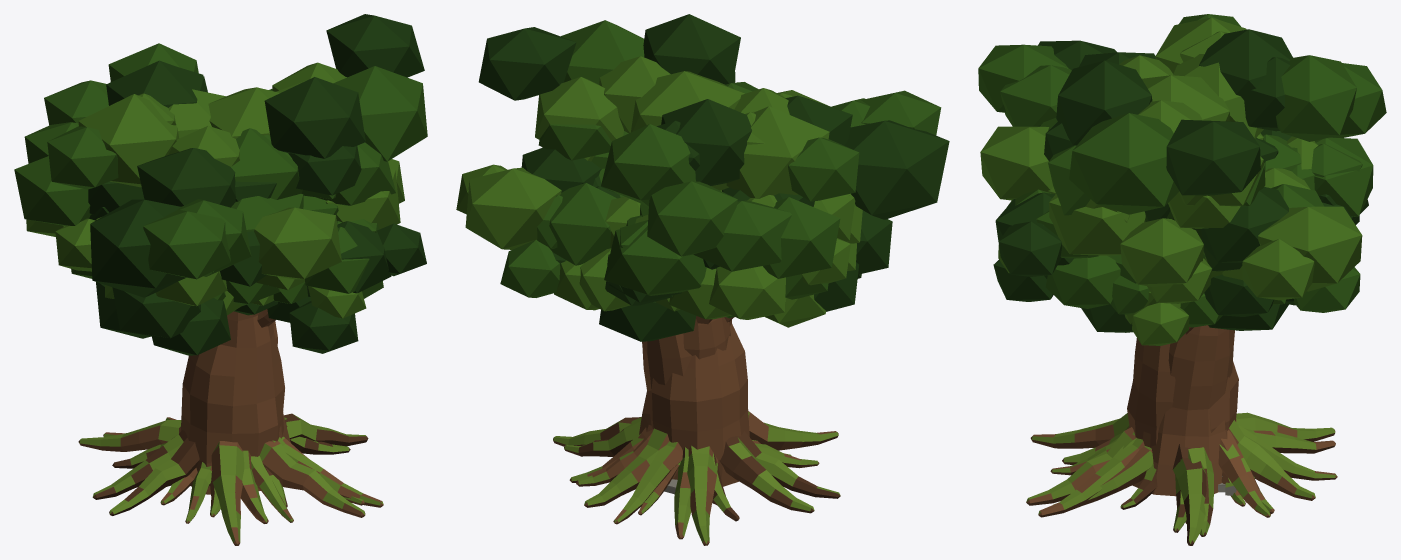
Rendered from forest_glade.glb.
3 views of the same model, side by side, from view 1: azimuth 30°, elevation 25°; view 2: azimuth 150°, elevation 25°; view 3: azimuth 270°, elevation 25° (orthographic). The views are drawn at different scales.
Parts seen in each view (by area): view 1: Oak3, Oak0, Oak2, Oak1; view 2: Oak3, Oak0, Oak1, Oak2; view 3: Oak3, Oak1, Oak0, Oak2.
Boxes of the visible parts, box(x1,y1,x2,y2) form: Oak3: box(44, 14, 427, 545); Oak0: box(14, 142, 404, 517); Oak2: box(71, 223, 426, 523); Oak1: box(24, 122, 383, 523); Oak3: box(478, 14, 949, 545); Oak0: box(521, 131, 858, 524); Oak1: box(456, 164, 840, 539); Oak2: box(500, 210, 892, 515); Oak3: box(978, 14, 1386, 545); Oak1: box(1038, 133, 1373, 536); Oak0: box(995, 129, 1368, 532); Oak2: box(993, 189, 1360, 523).
Size of the model in its own units: 23.15 by 24.16 by 20.34.
